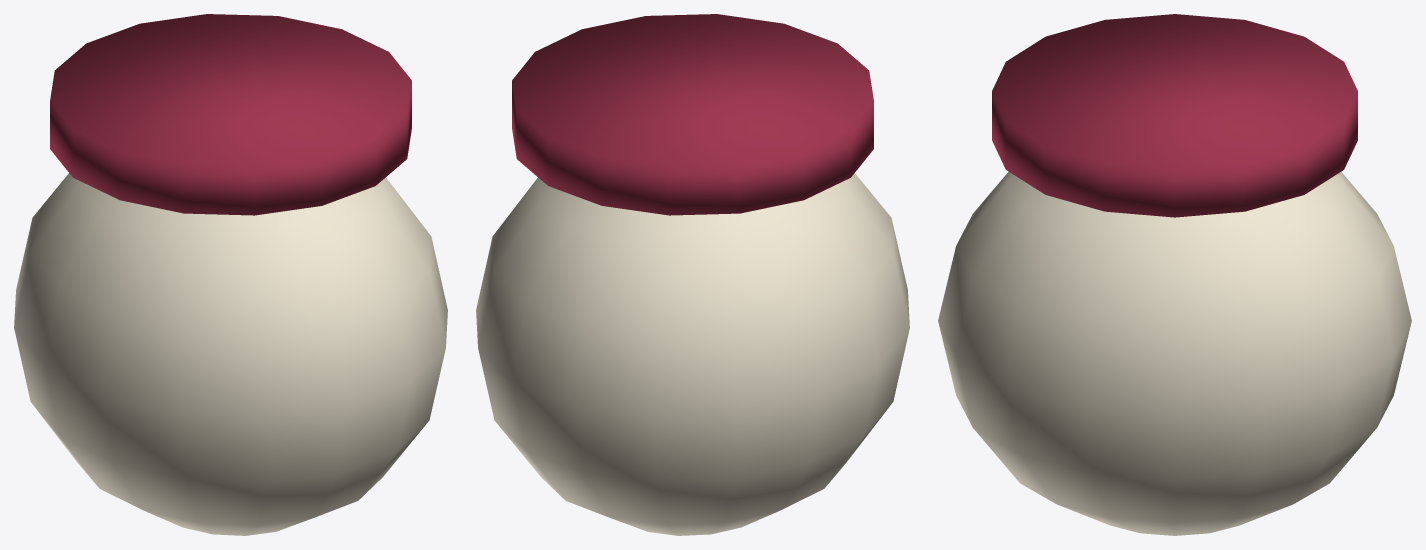
The model's file is stool_skull.glb.
The picture shows the model from 3 angles, left to right: view 1: azimuth 30°, elevation 25°; view 2: azimuth 150°, elevation 25°; view 3: azimuth 270°, elevation 25°; orthographic projection.
Visible parts, largest first — view 1: GD_stool_skull__m0, GD_stool_skull__m1; view 2: GD_stool_skull__m0, GD_stool_skull__m1; view 3: GD_stool_skull__m0, GD_stool_skull__m1.
Part boxes in pixels (box(x1,y1,x2,y2)): GD_stool_skull__m0: box(14, 173, 447, 535); GD_stool_skull__m1: box(50, 14, 411, 215); GD_stool_skull__m0: box(476, 173, 909, 535); GD_stool_skull__m1: box(512, 14, 873, 215); GD_stool_skull__m0: box(938, 172, 1411, 535); GD_stool_skull__m1: box(992, 14, 1357, 217).
Bounding box in the file's own units: 0.4 × 0.435 × 0.44.
